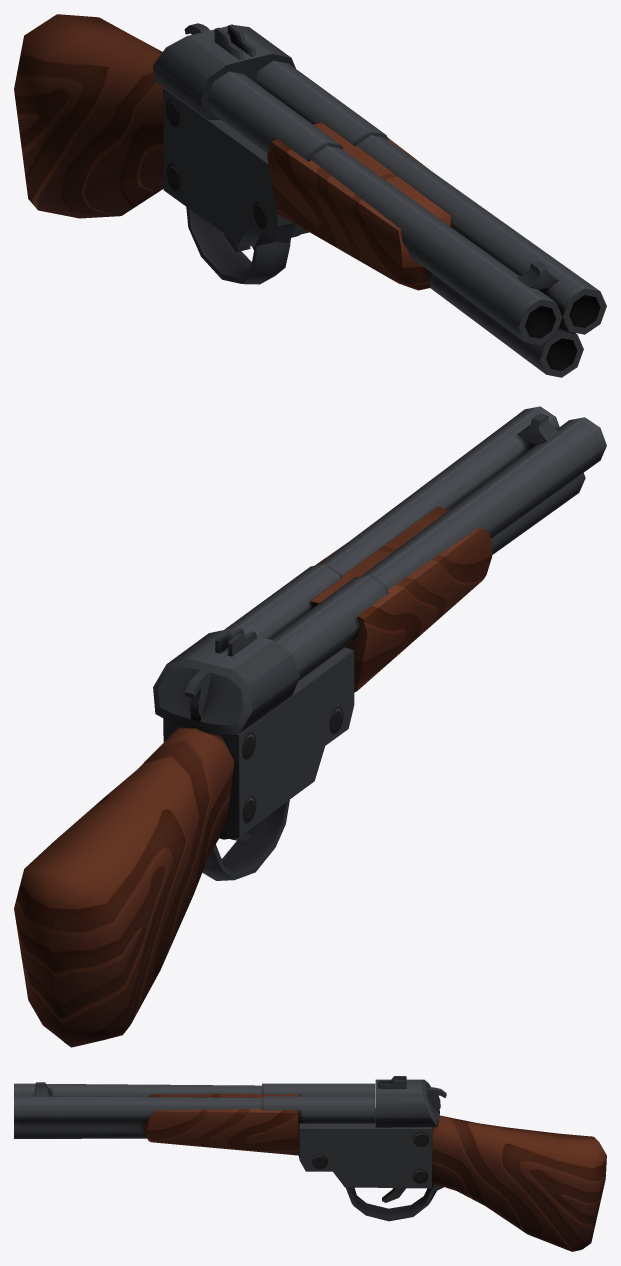
The model's file is gun_b03.FBX.
3 renders of one model, top to bottom at view 1: azimuth 30°, elevation 25°; view 2: azimuth 150°, elevation 25°; view 3: azimuth 270°, elevation 25°, orthographic. The views are drawn at different scales.
Parts seen in each view (by area): view 1: gun_b03_03, gun_b03_04; view 2: gun_b03_03, gun_b03_04, gun_b03_01; view 3: gun_b03_03, gun_b03_04, gun_b03_01.
Part boxes in pixels (x1,y1,x2,y2): gun_b03_03: (14, 14, 299, 284); gun_b03_04: (207, 60, 606, 377); gun_b03_03: (14, 628, 354, 1047); gun_b03_04: (224, 406, 606, 692); gun_b03_01: (184, 670, 212, 720); gun_b03_03: (299, 1076, 606, 1251); gun_b03_04: (14, 1082, 375, 1155); gun_b03_01: (426, 1087, 446, 1111).
Bounding box in the file's own units: 12.26 × 33.32 × 104.
